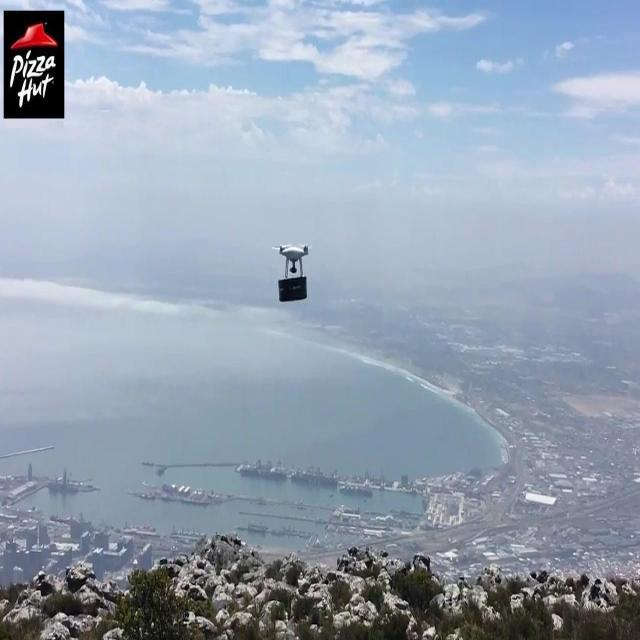UAV: (272, 244, 312, 278)
